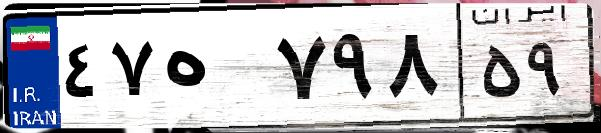4: (57, 26, 110, 100)
5: (475, 38, 525, 113)
7: (270, 28, 330, 110), (110, 28, 158, 98)
8: (385, 28, 445, 110)
9: (330, 28, 385, 110), (525, 38, 570, 115)
ه: (158, 20, 270, 120)
